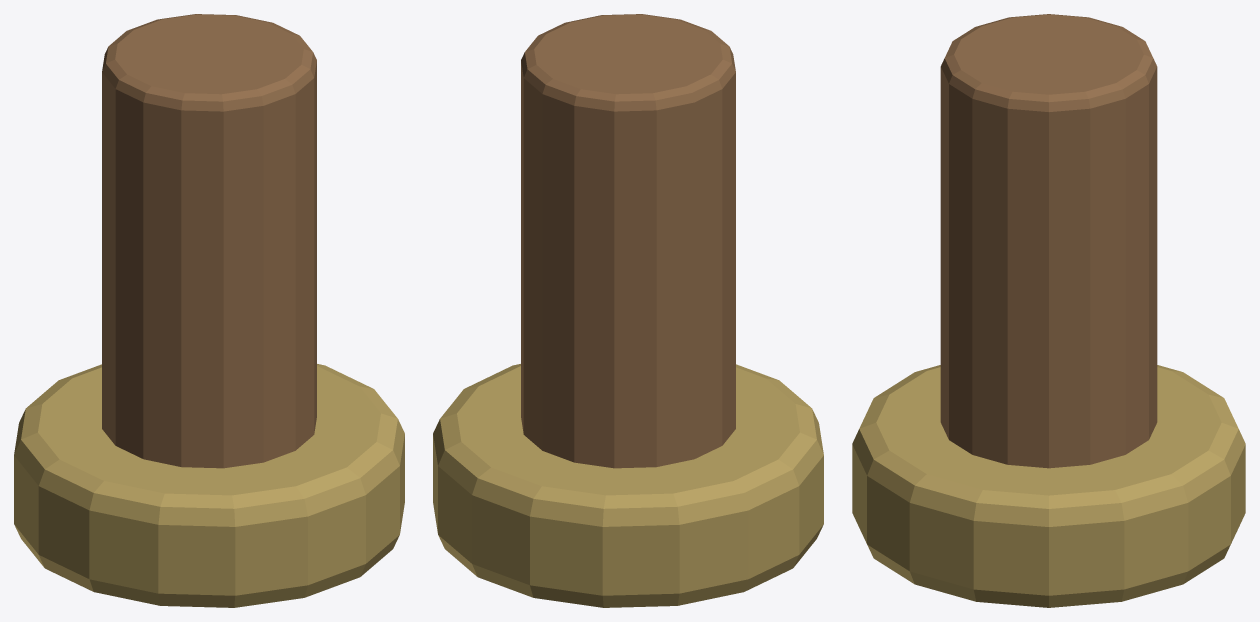
Rendered from record_seal.glb.
The picture shows the model from 3 angles, left to right: view 1: azimuth 30°, elevation 25°; view 2: azimuth 150°, elevation 25°; view 3: azimuth 270°, elevation 25°; orthographic projection.
Visible parts, largest first — view 1: Turned handle, Seal die; view 2: Turned handle, Seal die; view 3: Turned handle, Seal die.
Boxes of the visible parts, <box> form: Turned handle: <box>102,14,316,468</box>; Seal die: <box>14,364,404,607</box>; Turned handle: <box>521,14,735,468</box>; Seal die: <box>433,364,823,607</box>; Turned handle: <box>940,14,1157,468</box>; Seal die: <box>852,365,1245,607</box>.
Size of the model in its own units: 0.08 by 0.1105 by 0.08.
